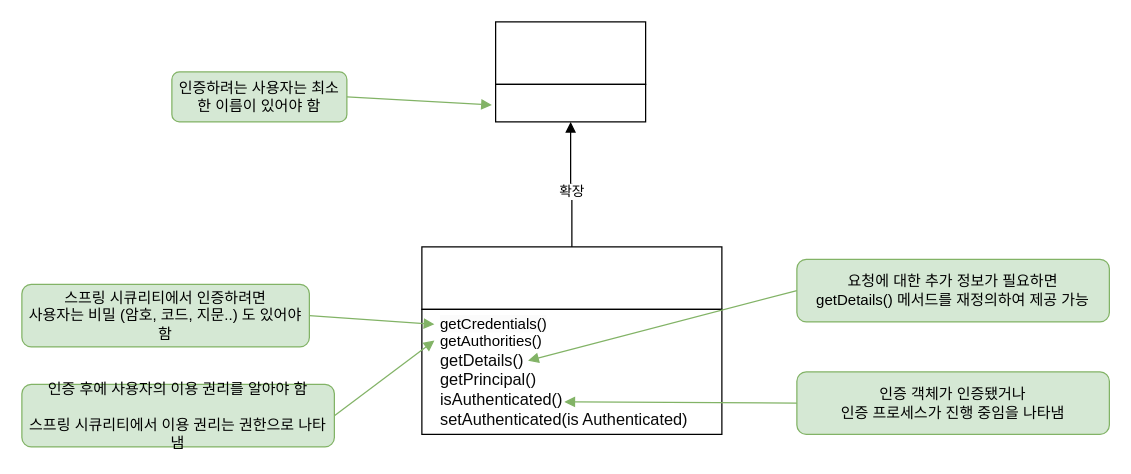
Some shapes in this 1131 by 474 pixel diagram are drawn without their labels. Here are the shapes that lost their labels. From the top down, the centre of each, then its label:
At (x=570, y=52): "Principal <<Interface>>".
At (x=570, y=102): "getName()".
At (x=571, y=277): "Authentication <<Interface>>".
